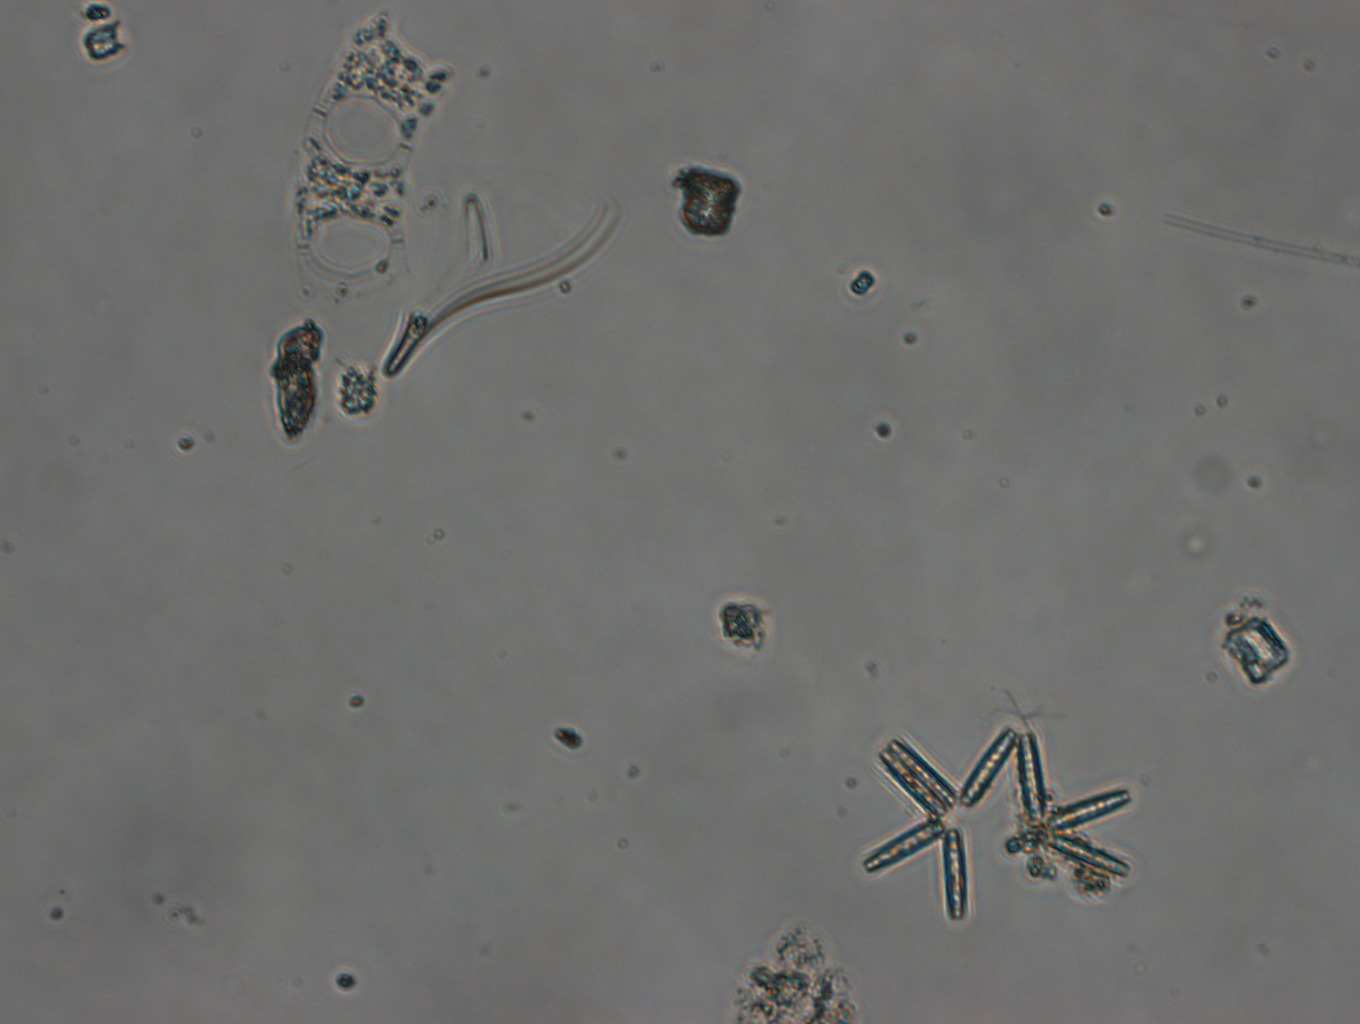eucampia: (290, 1, 464, 312)
thalassionema nitzschioides: (861, 712, 1154, 921)
